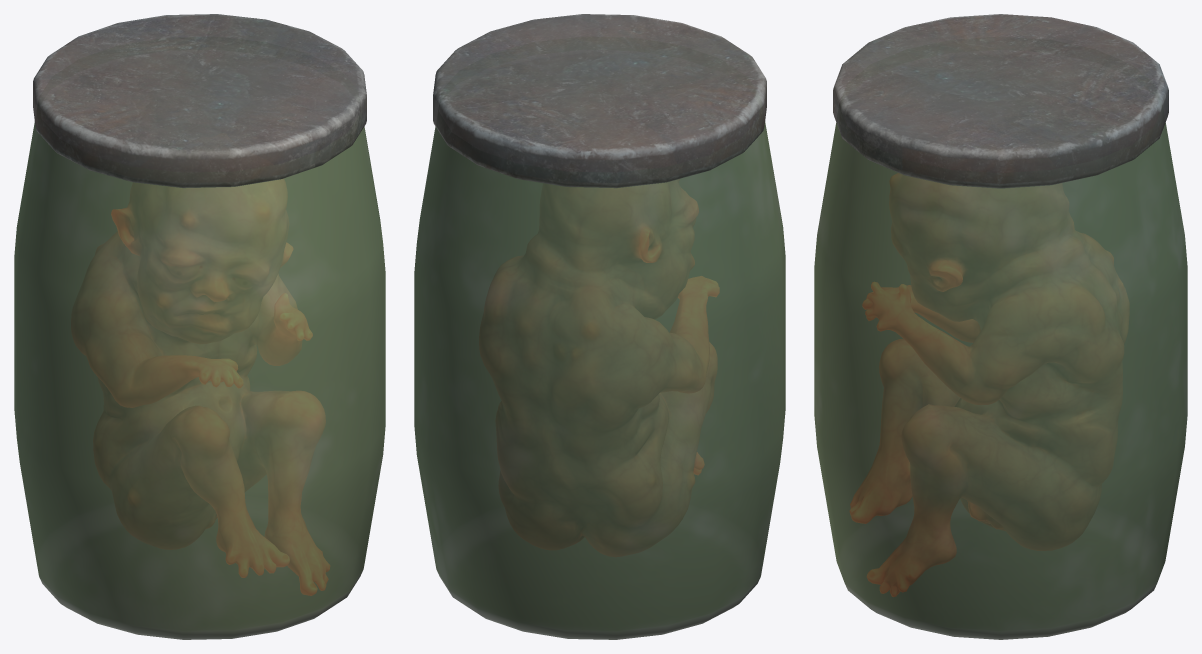
The model's file is foetus1.fbx.
3 renders of one model, left to right at view 1: azimuth 30°, elevation 25°; view 2: azimuth 150°, elevation 25°; view 3: azimuth 270°, elevation 25°, orthographic.
Visible parts, largest first — view 1: jar, foetus; view 2: jar, foetus; view 3: jar, foetus.
Boxes of the visible parts, box(x1,y1,x2,y2) form: jar: box(14, 14, 385, 639); foetus: box(71, 179, 329, 595); jar: box(414, 14, 785, 639); foetus: box(479, 179, 718, 556); jar: box(814, 14, 1187, 639); foetus: box(850, 173, 1128, 596).
Bounding box in the file's own units: 43.81 × 64.13 × 43.81.
